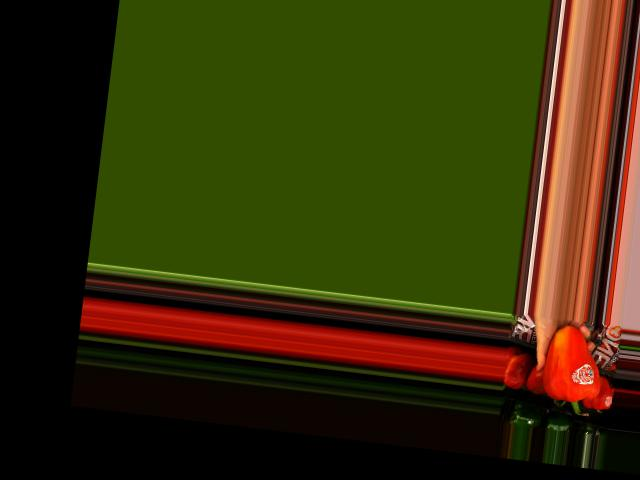bell_pepper: (532, 323, 609, 418)
